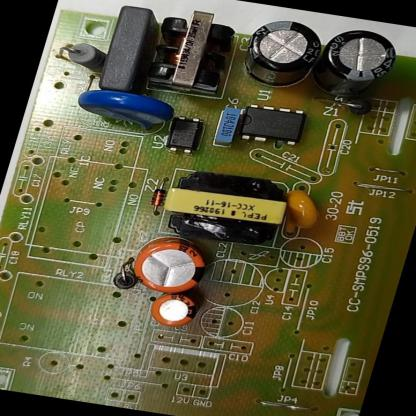Cap1: (118, 233, 221, 304)
Cap2: (136, 281, 212, 338)
Cap3: (232, 9, 336, 97)
Cap4: (305, 20, 404, 109)
MOSFET: (232, 97, 318, 153)
Mov: (66, 79, 192, 136)
Resistor: (50, 34, 115, 78)
Transformer: (151, 163, 297, 255), (131, 3, 249, 105)
